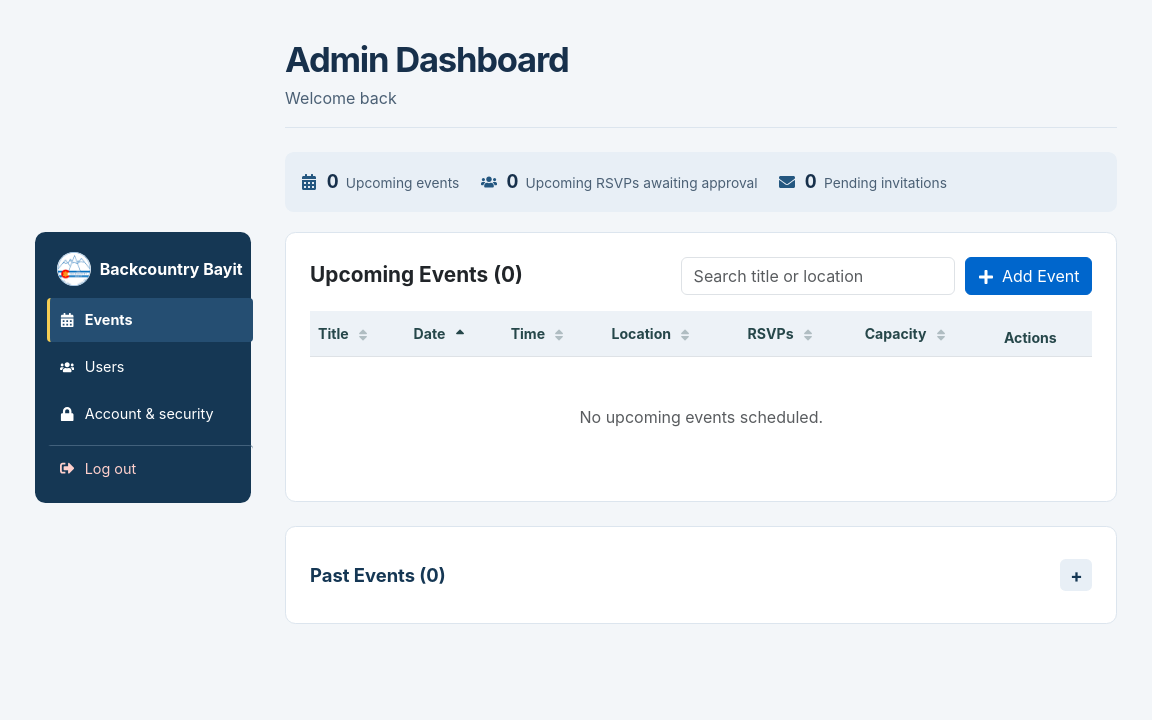
user search and invitation filters work together
Click the button "Users". click: (150, 367)
box: [46, 345, 253, 389]
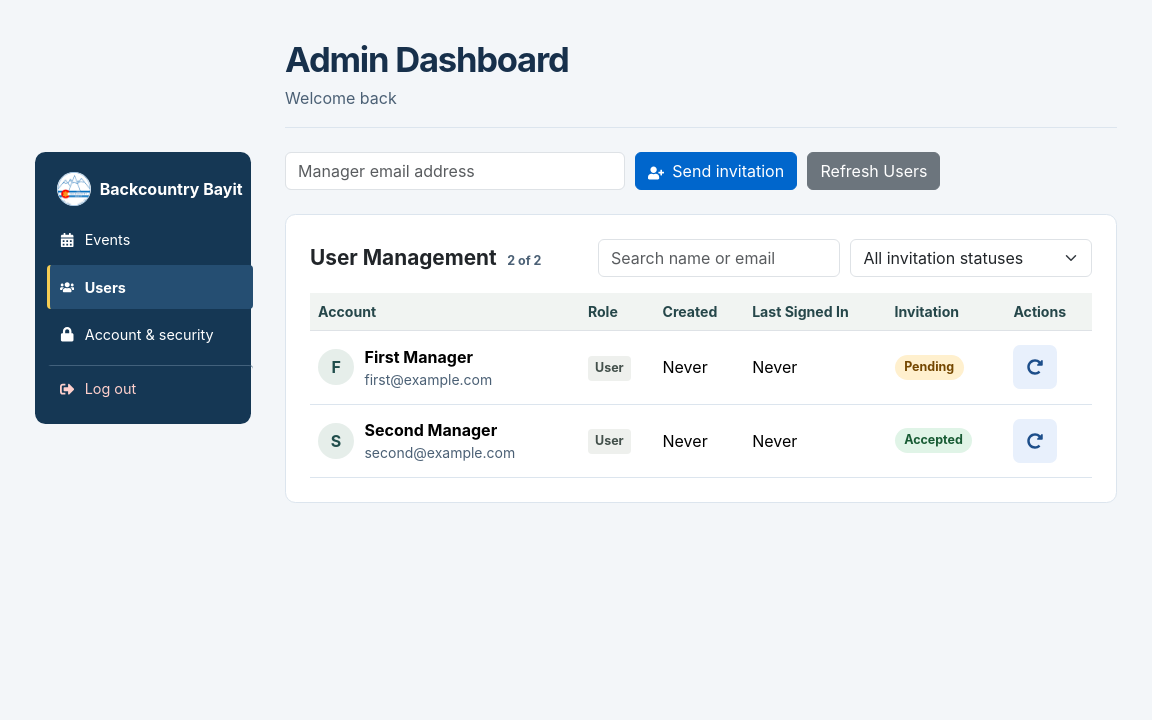
Now the text "First Manager" is shown, box [364, 347, 473, 367]
Select "Pending" in the dropdown named "Invitation status". click: (972, 258)
box: [850, 239, 1092, 277]
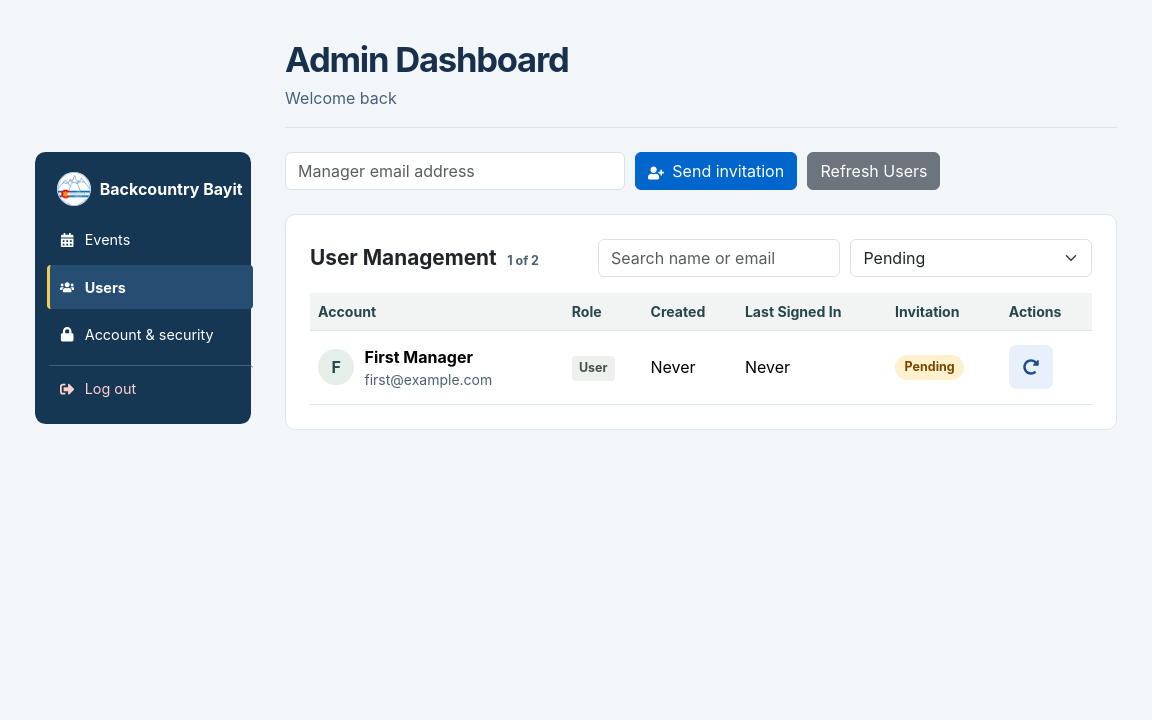
Now the text "Second Manager" is gone
Type "second@example.com" into the search field named "Search users". click: (719, 258)
box: [598, 239, 840, 277]
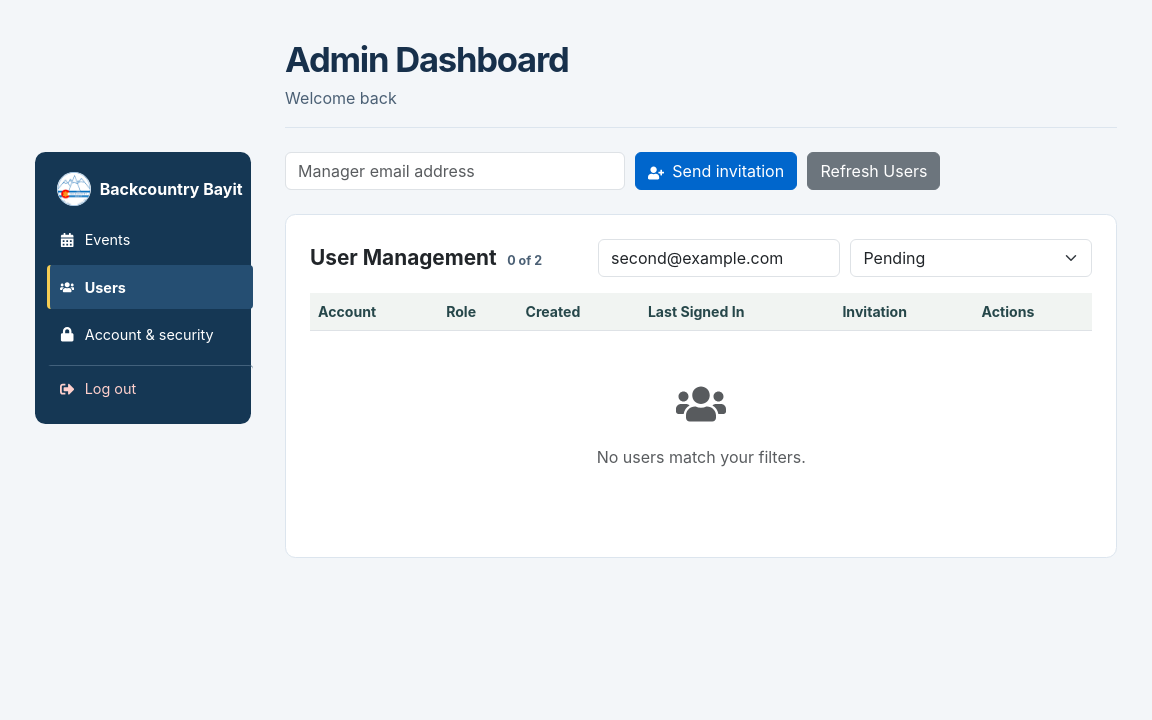
Now the text "No users match your filters." is shown, box [597, 447, 806, 467]
Select "All invitation statuses" in the dropdown named "Invitation status". click: (972, 258)
box: [850, 239, 1092, 277]
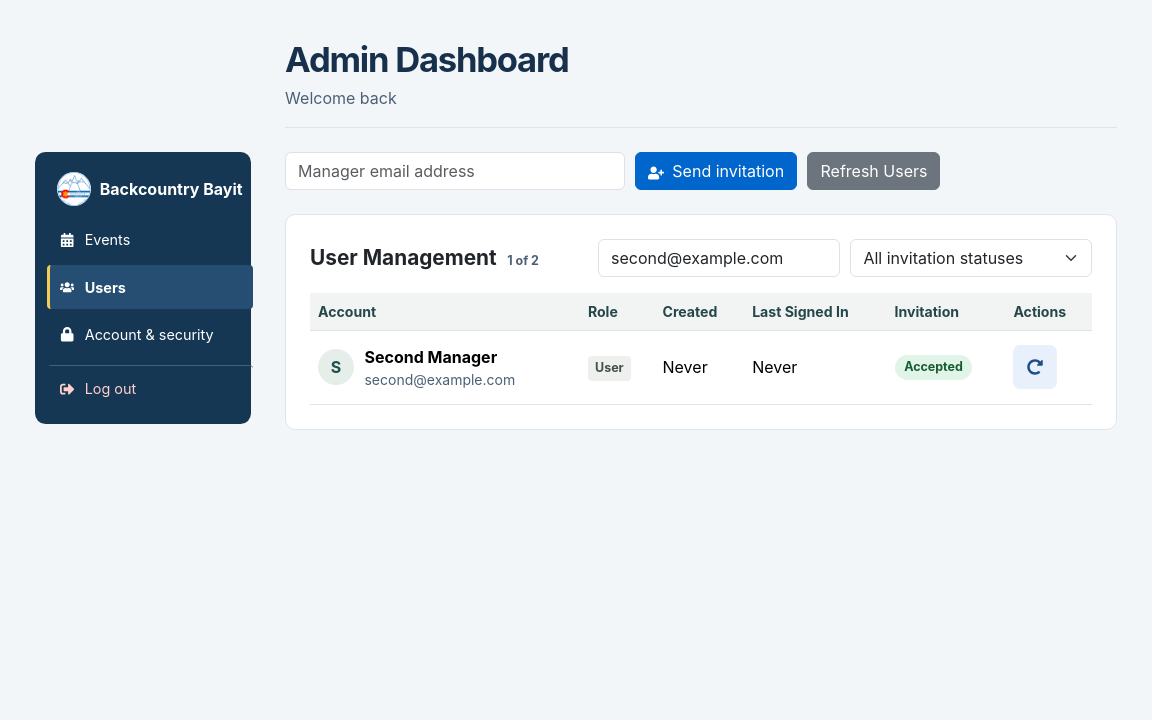
Now the text "Second Manager" is shown, box [364, 347, 497, 367]
